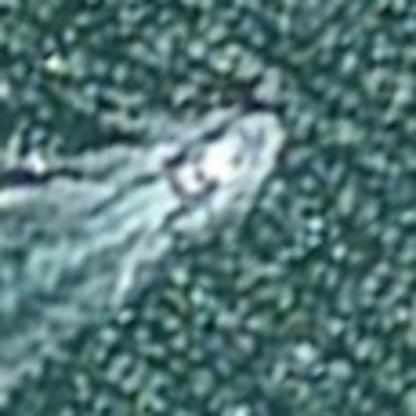ship: (156, 114, 275, 207)
